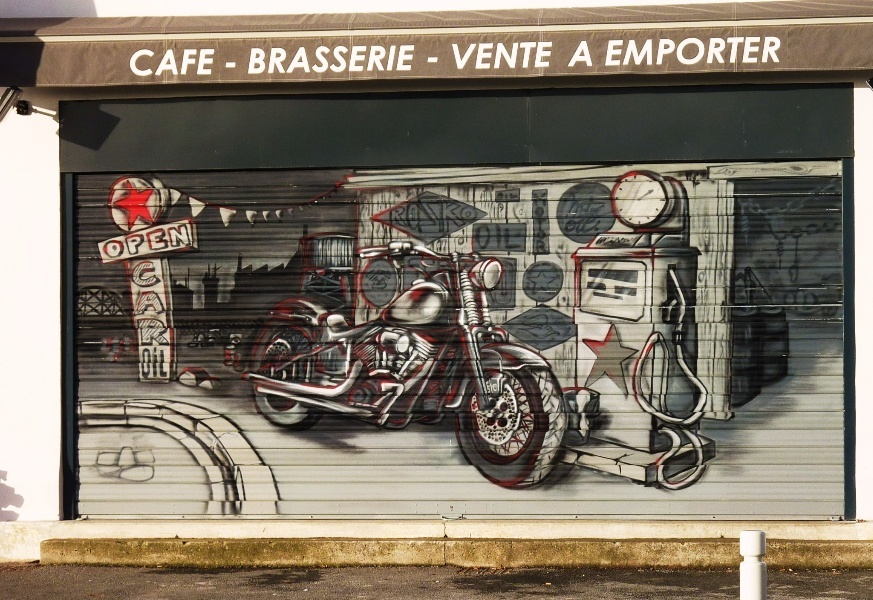text: (145, 260, 160, 347), (130, 260, 144, 347), (161, 260, 171, 347), (433, 191, 448, 244), (449, 191, 464, 244), (465, 191, 480, 244), (534, 193, 544, 253), (113, 223, 128, 260), (129, 223, 144, 260), (145, 223, 160, 260), (161, 223, 176, 260), (177, 223, 192, 260), (401, 45, 417, 75), (145, 347, 160, 379), (609, 36, 624, 67), (625, 36, 640, 67), (641, 36, 656, 67), (657, 36, 672, 67), (673, 36, 688, 67), (689, 36, 704, 67), (705, 36, 720, 67), (721, 36, 736, 67), (737, 36, 752, 67), (753, 36, 768, 67), (145, 48, 160, 78), (161, 48, 176, 78), (177, 48, 192, 78), (193, 48, 208, 78), (257, 45, 272, 75), (273, 45, 288, 75), (289, 45, 304, 75), (305, 45, 320, 75), (321, 45, 336, 75), (337, 45, 352, 75), (353, 45, 368, 75), (369, 45, 384, 75), (385, 45, 400, 75), (100, 223, 112, 260), (130, 48, 144, 78), (465, 42, 480, 70), (481, 42, 496, 70), (497, 42, 512, 70), (513, 42, 528, 70), (529, 42, 544, 70), (577, 40, 592, 67), (481, 224, 496, 251), (497, 224, 512, 251), (577, 191, 592, 218), (593, 191, 607, 218), (769, 36, 781, 67), (481, 191, 488, 244), (452, 42, 464, 70), (577, 215, 592, 235), (566, 191, 576, 218), (513, 224, 522, 251), (545, 42, 553, 70), (161, 347, 168, 379), (428, 191, 432, 244), (209, 48, 216, 78), (566, 215, 576, 235), (570, 40, 576, 67), (593, 215, 601, 235), (251, 45, 256, 75), (499, 192, 512, 202), (545, 193, 547, 253), (593, 40, 597, 67), (476, 224, 480, 251), (225, 62, 240, 69), (142, 347, 144, 379), (513, 192, 518, 202), (433, 57, 439, 63), (428, 57, 432, 63)
